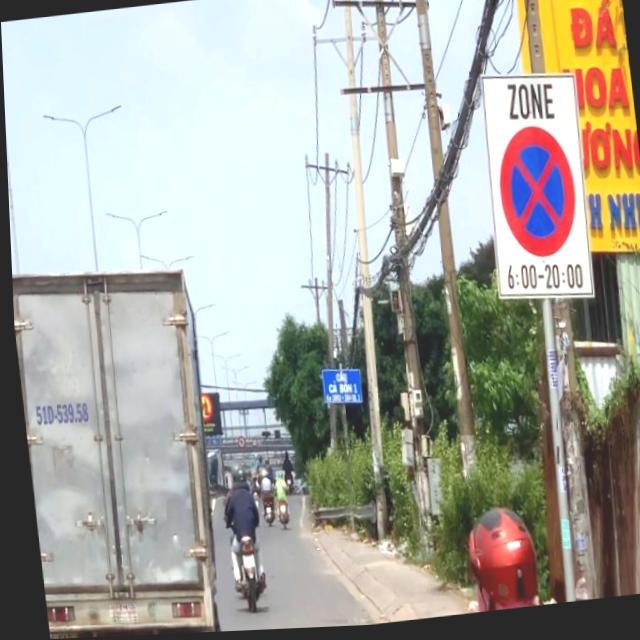Cam dung xe va do xe: (488, 123, 583, 270)
